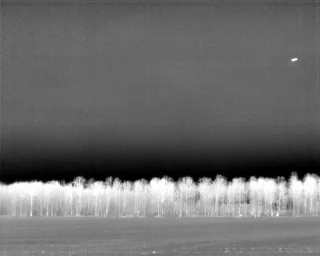DRONE: (288, 54, 301, 66)
